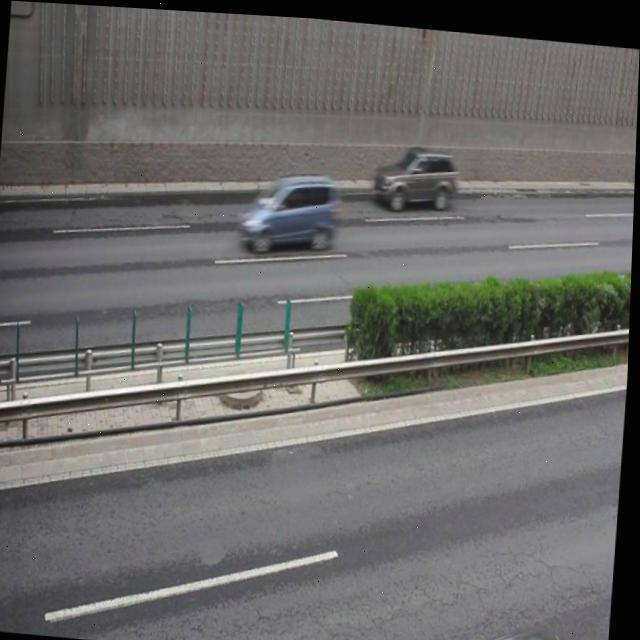car: (240, 162, 339, 252), (375, 136, 460, 209)
